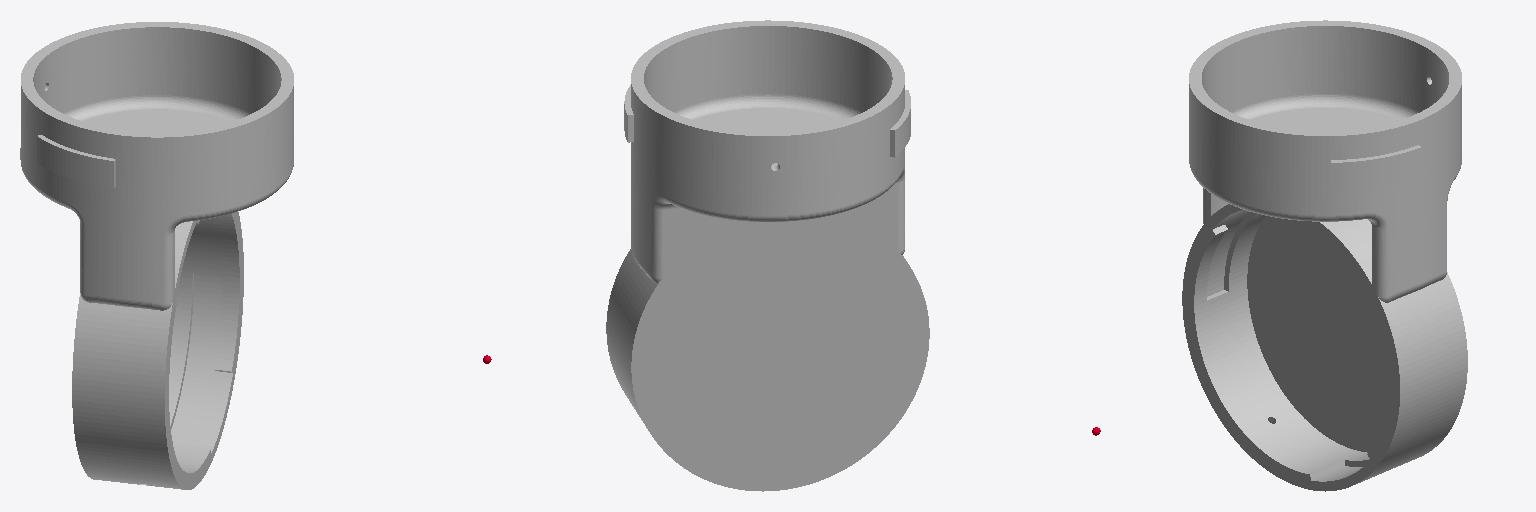
The robot description file, URDF, robot "panda":
<?xml version="1.0" ?>

<robot name="panda" xmlns:xacro="http://www.ros.org/wiki/xacro">

  <material name="Blue">
    <color rgba="0 0.1 1.0 1.0"/>
  </material>
  <material name="Red">
    <color rgba="1.0 0.0 0.0 1.0"/>
  </material>
  <material name="TransparentRed">
    <color rgba="0.9 0 0.2 0.5"/>
  </material>

  <!-- connect arm to world -->
    <link name="world"/>
    <joint name="world_joint" type="fixed">
      <parent link="world"/>
      <child link="fixed_base"/>
      <origin rpy="0.0 0.0 -3.14" xyz="0.0 0.0 0.0"/>
    </joint>

  <link name="fixed_base">
  	<inertial>
      <origin rpy="0 0 0" xyz="0 0 0.05"/>
       <mass value="2.9"/>
       <inertia ixx="0.1" ixy="0" ixz="0" iyy="0.1" iyz="0" izz="0.1"/>
    </inertial>
    <visual>
      <geometry>
        <mesh filename="../collision/link0.obj"/>
      </geometry>
      <material name="panda_white">
    		<color rgba="1. 1. 1. 1."/>
  		</material>
    </visual>
    <collision>
      <geometry>
        <mesh filename="../collision/link0.obj"/>
      </geometry>
      <material name="panda_white"/>
    </collision>
  </link>

  <link name="panda_link1">
  	<inertial>
      <origin rpy="0 0 0" xyz="0 -0.04 -0.05"/>
       <mass value="2.7"/>
       <inertia ixx="0.1" ixy="0" ixz="0" iyy="0.1" iyz="0" izz="0.1"/>
    </inertial>
    <visual>
      <geometry>
        <mesh filename="visual/link1.obj"/>
      </geometry>
      <material name="panda_white"/>
    </visual>
    <collision>
      <geometry>
        <mesh filename="../collision/link1.obj"/>
      </geometry>
      <material name="panda_white"/>
    </collision>
  </link>

  <joint name="panda_joint1" type="revolute">
    <safety_controller k_position="100.0" k_velocity="40.0" soft_lower_limit="-2.8973" soft_upper_limit="2.8973"/>
    <origin rpy="0 0 0" xyz="0 0 0.333"/>
    <parent link="fixed_base"/>
    <child link="panda_link1"/>
    <axis xyz="0 0 1"/>
    <limit effort="87" lower="-100" upper="100" velocity="2.1750"/>
  </joint>

  <link name="panda_link2">
  	<inertial>
      <origin rpy="0 0 0" xyz="0 -0.04 0.06"/>
       <mass value="2.73"/>
       <inertia ixx="0.1" ixy="0" ixz="0" iyy="0.1" iyz="0" izz="0.1"/>
    </inertial>
    <visual>
      <geometry>
        <mesh filename="visual/link2.obj"/>
      </geometry>
      <material name="panda_white"/>
    </visual>
    <collision>
      <geometry>
        <mesh filename="../collision/link2.obj"/>
      </geometry>
      <material name="panda_white"/>
    </collision>
  </link>

  <joint name="panda_joint2" type="revolute">
    <safety_controller k_position="100.0" k_velocity="40.0" soft_lower_limit="-1.7628" soft_upper_limit="1.7628"/>
    <origin rpy="-1.57079632679 0 0" xyz="0 0 0"/>
    <parent link="panda_link1"/>
    <child link="panda_link2"/>
    <axis xyz="0 0 1"/>
    <limit effort="87" lower="-100" upper="100" velocity="2.1750"/>
  </joint>

  <link name="panda_link3">
	  <inertial>
      <origin rpy="0 0 0" xyz="0.01 0.01 -0.05"/>
       <mass value="2.04"/>
       <inertia ixx="0.1" ixy="0" ixz="0" iyy="0.1" iyz="0" izz="0.1"/>
    </inertial>
    <visual>
      <geometry>
        <mesh filename="visual/link3.obj"/>
      </geometry>
      <material name="panda_red">
    		<color rgba="1. 1. 1. 1."/>
  		</material>
    </visual>
    <collision>
      <geometry>
        <mesh filename="../collision/link3.obj"/>
      </geometry>
    </collision>
  </link>

  <joint name="panda_joint3" type="revolute">
    <safety_controller k_position="100.0" k_velocity="40.0" soft_lower_limit="-2.8973" soft_upper_limit="2.8973"/>
    <origin rpy="1.57079632679 0 0" xyz="0 -0.316 0"/>
    <parent link="panda_link2"/>
    <child link="panda_link3"/>
    <axis xyz="0 0 1"/>
    <limit effort="87" lower="-100" upper="100" velocity="2.1750"/>
  </joint>

  <link name="panda_link4">
  	<inertial>
      <origin rpy="0 0 0" xyz="-0.03 0.03 0.02"/>
       <mass value="2.08"/>
       <inertia ixx="0.1" ixy="0" ixz="0" iyy="0.1" iyz="0" izz="0.1"/>
    </inertial>
    <visual>
      <geometry>
        <mesh filename="visual/link4.obj"/>
      </geometry>
      <material name="panda_white"/>
    </visual>
    <collision>
      <geometry>
        <mesh filename="../collision/link4.obj"/>
      </geometry>
      <material name="panda_white"/>
    </collision>
  </link>

  <joint name="panda_joint4" type="revolute">
    <safety_controller k_position="100.0" k_velocity="40.0" soft_lower_limit="-3.0718" soft_upper_limit="-0.0698"/>
    <origin rpy="1.57079632679 0 0" xyz="0.0825 0 0"/>
    <parent link="panda_link3"/>
    <child link="panda_link4"/>
    <axis xyz="0 0 1"/>
    <limit effort="87" lower="-100" upper="100" velocity="2.1750"/>
  </joint>

  <link name="panda_link5">
  	<inertial>
      <origin rpy="0 0 0" xyz="0 0.04 -0.12"/>
       <mass value="3"/>
       <inertia ixx="0.1" ixy="0" ixz="0" iyy="0.1" iyz="0" izz="0.1"/>
    </inertial>
    <visual>
      <geometry>
        <mesh filename="visual/link5.obj"/>
      </geometry>
      <material name="panda_white"/>
    </visual>
    <collision>
      <geometry>
        <mesh filename="../collision/link5.obj"/>
      </geometry>
      <material name="panda_white"/>
    </collision>
  </link>

  <joint name="panda_joint5" type="revolute">
    <safety_controller k_position="100.0" k_velocity="40.0" soft_lower_limit="-2.8973" soft_upper_limit="2.8973"/>
    <origin rpy="-1.57079632679 0 0" xyz="-0.0825 0.384 0"/>
    <parent link="panda_link4"/>
    <child link="panda_link5"/>
    <axis xyz="0 0 1"/>
    <limit effort="12" lower="-100" upper="100" velocity="2.6100"/>
  </joint>

  <link name="panda_link6">
  	<inertial>
      <origin rpy="0 0 0" xyz="0.04 0 0"/>
       <mass value="1.3"/>
       <inertia ixx="0.1" ixy="0" ixz="0" iyy="0.1" iyz="0" izz="0.1"/>
    </inertial>
    <visual>
      <geometry>
        <mesh filename="visual/link6.obj"/>
      </geometry>
      <material name="panda_white"/>
    </visual>
    <collision>
      <geometry>
        <mesh filename="../collision/link6.obj"/>
      </geometry>
      <material name="panda_white"/>
    </collision>
  </link>

  <joint name="panda_joint6" type="revolute">
    <safety_controller k_position="100.0" k_velocity="40.0" soft_lower_limit="-0.0175" soft_upper_limit="3.7525"/>
    <origin rpy="1.57079632679 0 0" xyz="0 0 0"/>
    <parent link="panda_link5"/>
    <child link="panda_link6"/>
    <axis xyz="0 0 1"/>
    <limit effort="12" lower="-100" upper="100" velocity="2.6100"/>
  </joint>

  <link name="panda_link7">
  	<inertial>
      <origin rpy="0 0 0" xyz="0 0 0.08"/>
       <mass value=".2"/>
       <inertia ixx="0.1" ixy="0" ixz="0" iyy="0.1" iyz="0" izz="0.1"/>
    </inertial>
    <visual>
      <geometry>
        <mesh filename="../collision/link7.obj"/>
      </geometry>
      <material name="panda_white"/>
    </visual>
    <collision>
      <geometry>
        <mesh filename="../collision/link7.obj"/>
      </geometry>
      <material name="panda_white"/>
    </collision>
  </link>

  <joint name="panda_joint7" type="revolute">
    <safety_controller k_position="100.0" k_velocity="40.0" soft_lower_limit="-2.8973" soft_upper_limit="2.8973"/>
    <origin rpy="1.57079632679 0 0" xyz="0.088 0 0"/>
    <parent link="panda_link6"/>
    <child link="panda_link7"/>
    <axis xyz="0 0 1"/>
    <limit effort="12" lower="-100" upper="100" velocity="2.6100"/>
  </joint>


  <!-- End Effector -->

  <link name="ee_link">
    <visual>
      <origin rpy="0 0 0" xyz="0 0 0"/>
      <geometry>
        <sphere radius="0.001"/>
      </geometry>
       <material name="Red"/>
    </visual>
    <collision>
      <geometry>
        <sphere radius="0.01"/>
      </geometry>
      <origin rpy="0 0 0" xyz="0.0 0 0"/>
    </collision>
  	 <inertial>
       <origin rpy="0 0 0" xyz="0 0 0"/>
       <mass value="0.0"/>
       <inertia ixx="0.1" ixy="0" ixz="0" iyy="0.1" iyz="0" izz="0.1"/>
    </inertial>
  </link>

  <joint name="ee_joint" type="fixed">
    <origin rpy="0.0 0.0 0.0" xyz="0 0 0.107"/>
    <parent link="panda_link7"/>
    <child link="ee_link"/>
    <axis xyz="0 0 0"/>
  </joint>


  <!-- TacTip -->

  <link name="tactip_adapter_link">
    <inertial>
      <origin rpy="0 0 0" xyz="0 0 0"/>
       <mass value="0.1"/>
       <inertia ixx="0.001" ixy="0" ixz="0" iyy="0.001" iyz="0" izz="0.001"/>
    </inertial>
    <visual>
      <origin rpy="0 0 0" xyz="0 0 0"/>
      <geometry>
        <mesh filename="../tactip/right_angle_tactip/adapter/right_angle_adapter.obj" scale="1.0 1.0 1.0"/>
      </geometry>
       <material name="whitish">
        <color rgba="0.8 0.8 0.8 1.0"/>
      </material>
    </visual>
    <collision>
      <origin rpy="0 0 0" xyz="0 0 0"/>
      <geometry>
        <mesh filename="../tactip/right_angle_tactip/adapter/right_angle_adapter.obj" scale="1.0 1.0 1.0"/>
      </geometry>
    </collision>
  </link>

    <joint name="tactip_ee_joint" type="fixed">
      <parent link="ee_link"/>
      <child link="tactip_adapter_link"/>
      <origin rpy="0.0 1.57 -2.35619" xyz="0.0 0.005 0.04"/>
    </joint>

  <link name="tactip_body_link">
    <inertial>
      <origin rpy="0 0 0" xyz="0 0 0"/>
       <mass value="0.25"/>
       <inertia ixx="0.001" ixy="0" ixz="0" iyy="0.001" iyz="0" izz="0.001"/>
    </inertial>
    <visual>
      <origin rpy="0 0 0" xyz="0 0 0"/>
      <geometry>
        <mesh filename="../tactip/standard_tactip/body/tactip_body.obj" scale="1.0 1.0 1.0"/>
      </geometry>
       <material name="whitish">
        <color rgba="0.8 0.8 0.8 1.0"/>
      </material>
    </visual>
    <collision>
      <origin rpy="0 0 0" xyz="0 0 0"/>
      <geometry>
        <mesh filename="../tactip/standard_tactip/body/tactip_body.obj" scale="1.0 1.0 1.0"/>
      </geometry>
    </collision>
  </link>

  <joint name="tactip_body_to_adapter" type="fixed">
     <origin rpy="0 0 0" xyz="0 0 0"/>
     <parent link="tactip_adapter_link"/>
     <child link="tactip_body_link"/>
  </joint>

  <link name="tactip_tip_link">
    <contact>
      <friction_anchor/>
      <lateral_friction value="1.0"/>
    </contact>
    <inertial>
      <origin rpy="0 0 0" xyz="0 0 0"/>
       <mass value=".1"/>
       <inertia ixx="1" ixy="0" ixz="0" iyy="1" iyz="0" izz="1"/>
    </inertial>
    <visual>
      <origin rpy="0 0 0" xyz="0 0 0"/>
      <geometry>
        <mesh filename="../tactip/standard_tactip/tip/skin.obj" scale="1.0 1.0 1.0"/>
      </geometry>
       <material name="black">
        <color rgba="0.0 0.0 0.0 1.0"/>
      </material>
    </visual>
    <collision>
      <origin rpy="0 0 0" xyz="0 0 0"/>
      <geometry>
        <mesh filename="../tactip/standard_tactip/tip/core.obj" scale="1 1 1"/>
      </geometry>
    </collision>
  </link>

  <joint name="tactip_tip_to_body" type="fixed">
     <origin rpy="1.57 0 0" xyz="0 0 0.065"/>
     <axis xyz="0 1 0"/>
     <parent link="tactip_body_link"/>
     <child link="tactip_tip_link"/>
  </joint>

  <!-- TCP -->
  <link name="tcp_link">
    <visual>
      <origin rpy="0 0 0" xyz="0 0 0"/>
      <geometry>
        <sphere radius="0.001"/>
      </geometry>
       <material name="TransparentRed"/>
    </visual>
    <inertial>
      <mass value="0.0"/>
      <origin rpy="0.0 -1.57 0.0" xyz="0.0 0.0 0.0"/>
      <inertia ixx="1.0" ixy="0.0" ixz="0.0" iyy="1.0" iyz="0.0" izz="1.0"/>
    </inertial>
  </link>

  <joint name="tcp_joint" type="fixed">
    <parent link="tactip_body_link"/>
    <child link="tcp_link"/>
    <origin rpy="0 0 0" xyz="0.0 0.0 0.085"/>
  </joint>



</robot>

--- Facts derived from the render (not from the file) ---
3 views of the same robot in one strip: view 1: azimuth 30°, elevation 25°; view 2: azimuth 150°, elevation 25°; view 3: azimuth 270°, elevation 25° (orthographic).
Robot: panda — 14 links, 13 joints (7 revolute, 6 fixed); root link world; default pose: every joint at zero.
Visible links, largest first — view 1: tactip_adapter_link; view 2: tactip_adapter_link; view 3: tactip_adapter_link.
Boxes of the visible links, box(x1,y1,x2,y2) form: tactip_adapter_link: box(20, 22, 293, 489); tactip_adapter_link: box(606, 20, 929, 491); tactip_adapter_link: box(1182, 20, 1467, 491).
Size in the robot's own frame: 0.0924 by 0.0879 by 0.101 metres.
1 mesh visuals loaded from 11 distinct referenced files (1 OBJ); not drawn: 10 (reference not matched to a file when rendering).